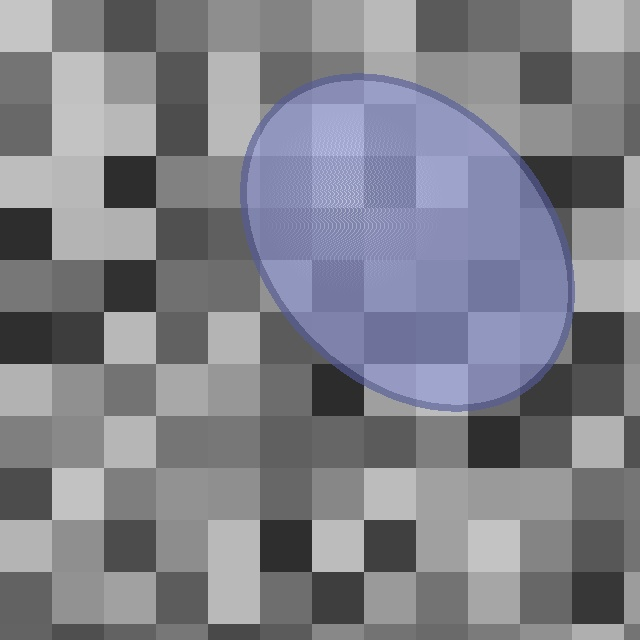lens: (244, 77, 570, 407)
